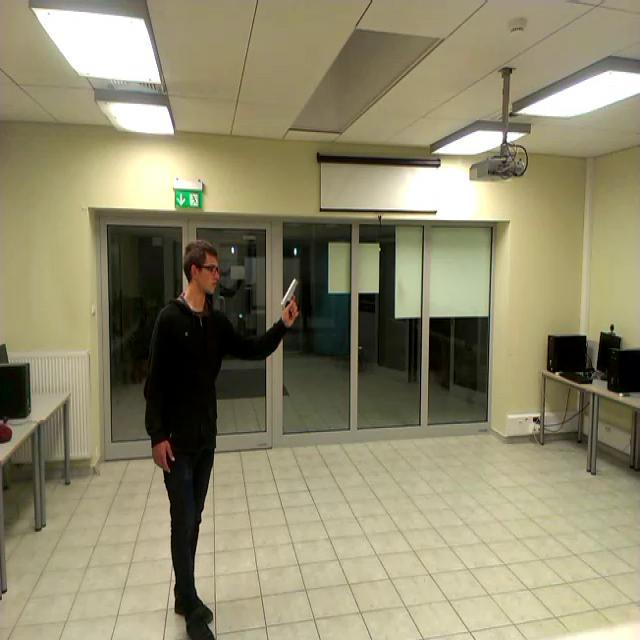Gun: (282, 277, 299, 318)
